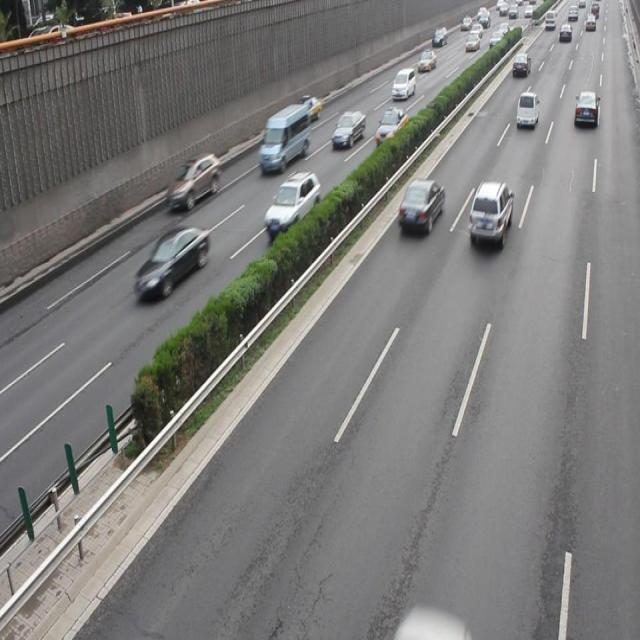car: (133, 224, 211, 297), (264, 170, 322, 237), (166, 152, 221, 212), (466, 179, 512, 248), (397, 178, 444, 233), (330, 108, 364, 149), (375, 108, 408, 146), (572, 90, 597, 127), (292, 93, 321, 122)
truck: (259, 102, 310, 174), (514, 92, 538, 127)
